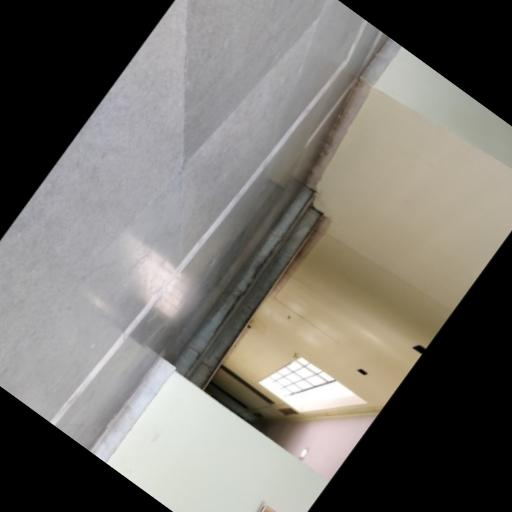stairs: (173, 185, 322, 390)
